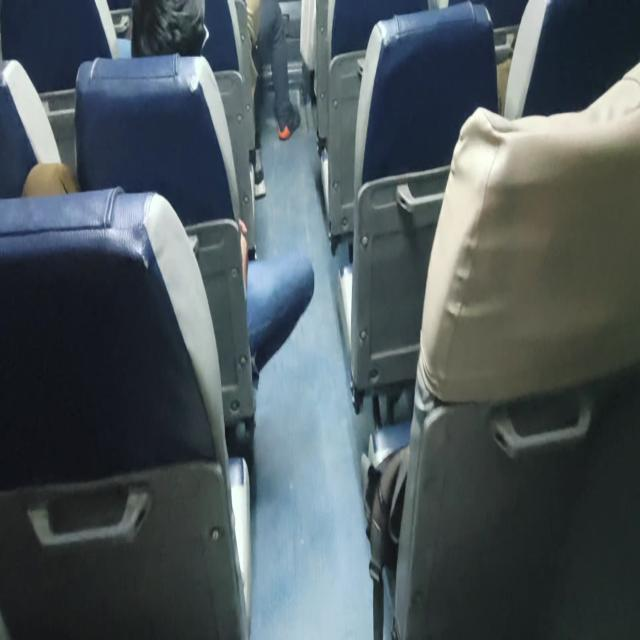person: (142, 0, 214, 71)
